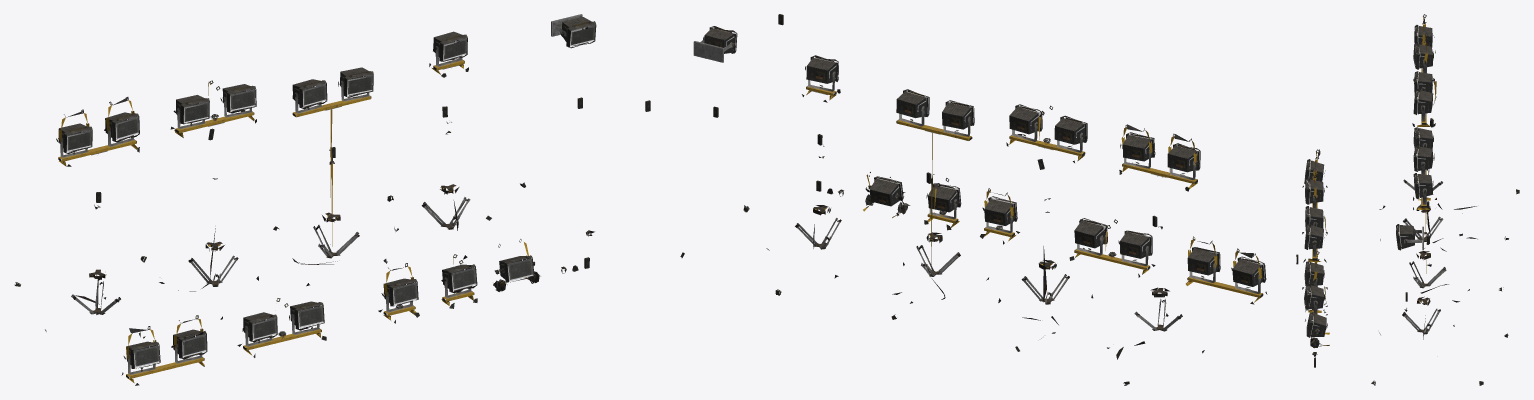
The model's file is ph_flood_lights.glb.
The picture shows the model from 3 angles, left to right: view 1: azimuth 30°, elevation 25°; view 2: azimuth 150°, elevation 25°; view 3: azimuth 270°, elevation 25°; orthographic projection. The views are drawn at different scales.
Visible parts, largest first — view 1: flood_lights_cable_a_geo; view 2: flood_lights_cable_a_geo; view 3: flood_lights_cable_a_geo.
Part boxes in pixels (x1,y1,x2,y2): flood_lights_cable_a_geo: (14,14,650,385); flood_lights_cable_a_geo: (680,14,1267,385); flood_lights_cable_a_geo: (1296,14,1519,385).
Bounding box in the file's own units: 4.57 × 1.8 × 2.04.
2 materials, 2 textured.
